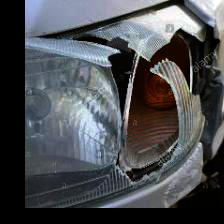head_lamp: (95, 29, 186, 177)
